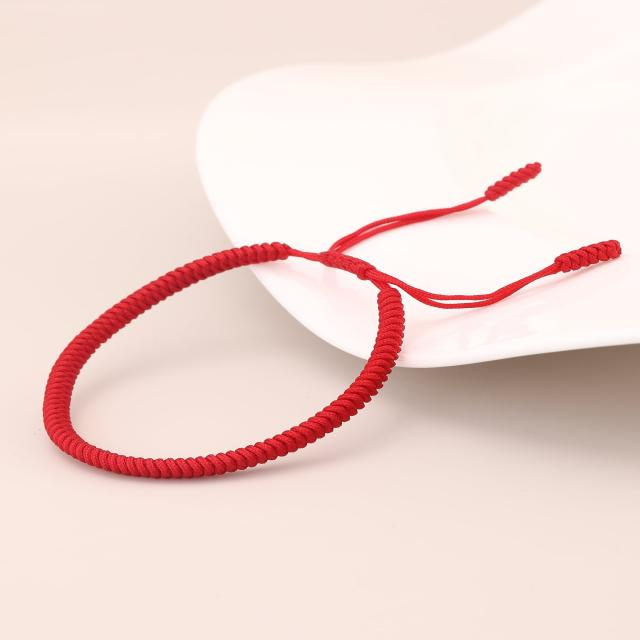bracelet: (10, 102, 640, 553)
